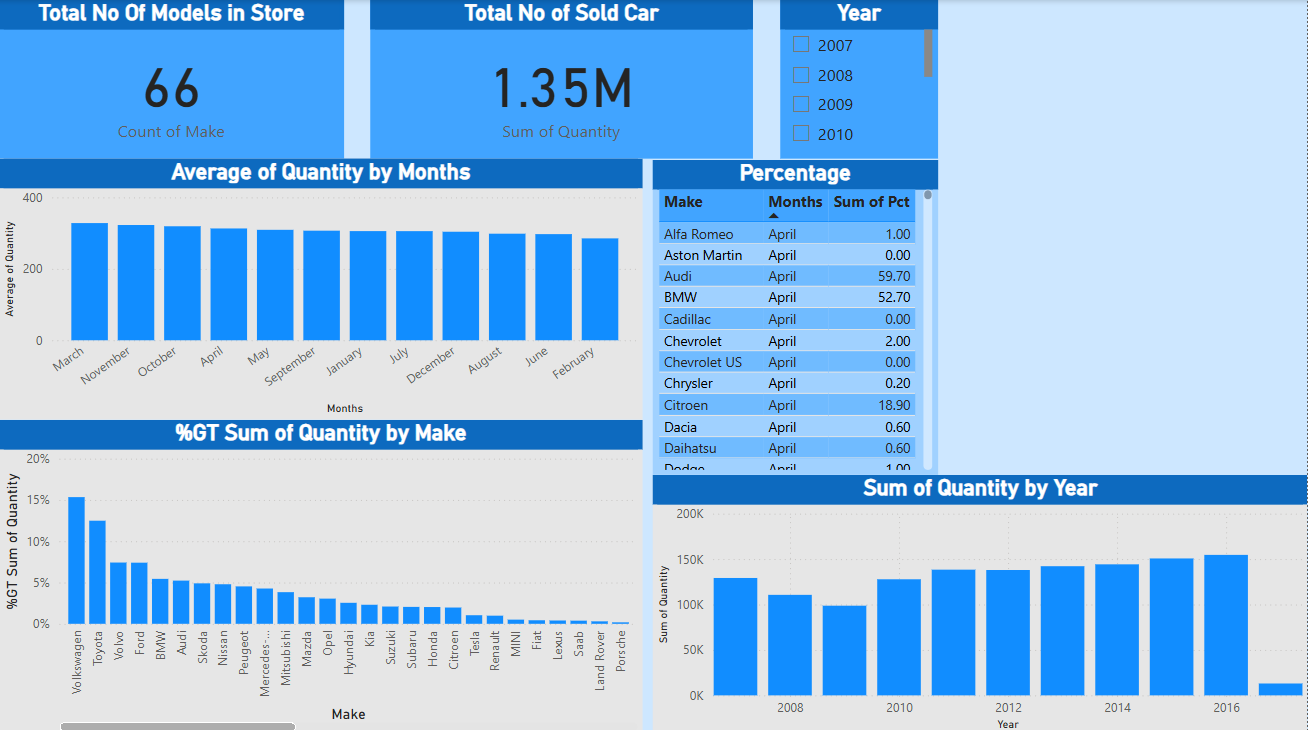

This screenshot's page, from the dashboard's own definition file:
{"tool":"powerbi","page":{"name":"Page 1","canvas":[1280,720],"ordinal":0},"visuals":[{"type":"clusteredColumnChart","fields":{"Category":["norway_new_car_sales_by_make (2).Make"],"Y":["Sum(norway_new_car_sales_by_make (2).Quantity)"]},"box":[0,410.9,629.8,309.4],"z":1000},{"type":"card","title":"Total No Of Models in Store","fields":{"Values":["Count(norway_new_car_sales_by_make (2).Make)"]},"box":[0,0,337.5,155.3],"z":2000},{"type":"card","title":"Total No of Sold Car","fields":{"Values":["Sum(norway_new_car_sales_by_make (2).Quantity)"]},"box":[363.2,0,374.2,155.3],"z":3000},{"type":"clusteredColumnChart","fields":{"Category":["norway_new_car_sales_by_make (2).Months"],"Y":["Avg(norway_new_car_sales_by_make (2).Quantity)"]},"box":[0,155.3,629.8,255.6],"z":4000},{"type":"clusteredColumnChart","fields":{"Y":["Sum(norway_new_car_sales_by_make (2).Quantity)"],"Category":["norway_new_car_sales_by_make (2).Year"]},"box":[639.5,464.7,640.8,255.6],"z":5000},{"type":"slicer","title":"Year","fields":{"Values":["norway_new_car_sales_by_make (2).Year"]},"box":[764.3,0,154.1,155.3],"z":6000},{"type":"tableEx","title":"Percentage","fields":{"Values":["norway_new_car_sales_by_make (2).Make","norway_new_car_sales_by_make (2).Months","Sum(norway_new_car_sales_by_make (2).Pct)"]},"box":[639.5,156.5,278.8,308.2],"z":7000}]}

Visuals, with their boxes in screenshot pixels (x1, y1, x2, y2), scaled from the page's 1280x720 canvas onto the 1308x730 screenshot:
clusteredColumnChart - norway_new_car_sales_by_make (2).Make x Sum(norway_new_car_sales_by_make (2).Quantity): (0, 417, 644, 729)
"Total No Of Models in Store" card: (0, 0, 345, 157)
"Total No of Sold Car" card: (371, 0, 754, 157)
clusteredColumnChart - norway_new_car_sales_by_make (2).Months x Avg(norway_new_car_sales_by_make (2).Quantity): (0, 157, 644, 417)
clusteredColumnChart - Sum(norway_new_car_sales_by_make (2).Quantity) x norway_new_car_sales_by_make (2).Year: (653, 471, 1307, 729)
"Year" slicer: (781, 0, 938, 157)
"Percentage" tableEx: (653, 159, 938, 471)
